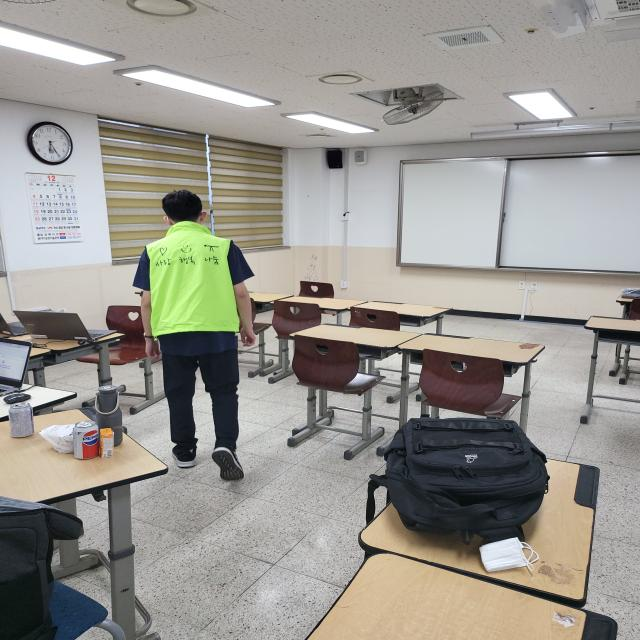weston_spy: (139, 216, 251, 344)
